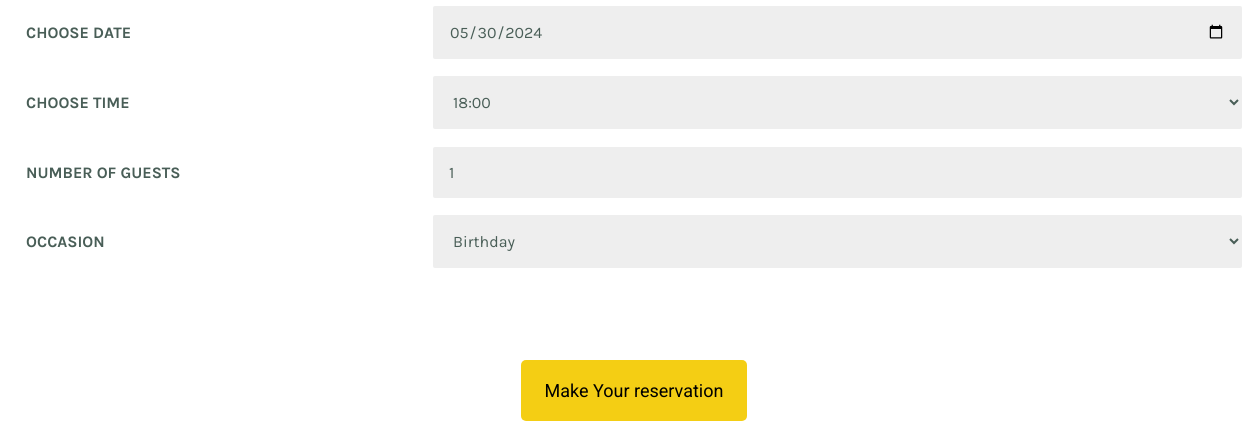
BookingForm › renders error message when date input is invalid
Clear the date field labelled "Choose date". click: (837, 32)
box: [433, 6, 1242, 59]
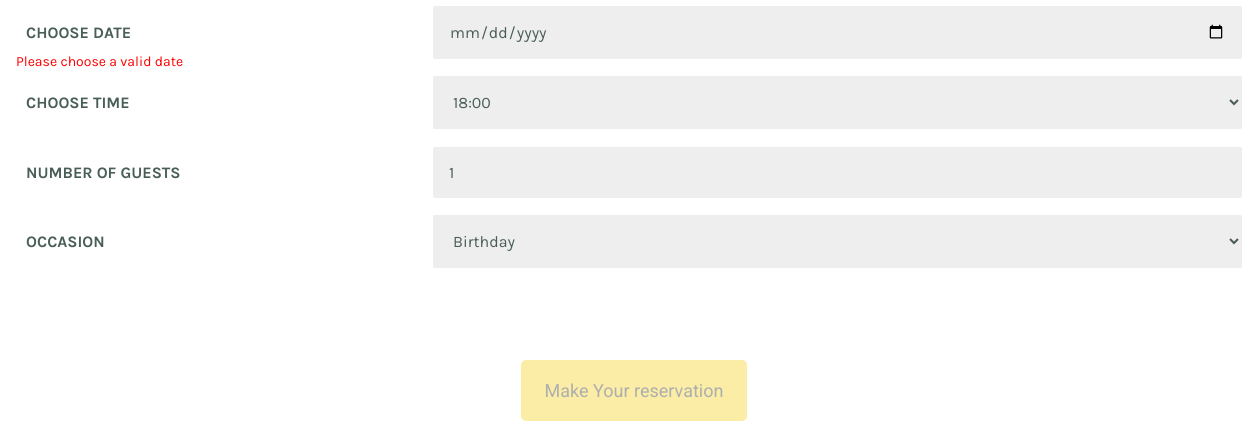
expect the text "Please choose a valid date" is shown: met, box [16, 53, 183, 70]
